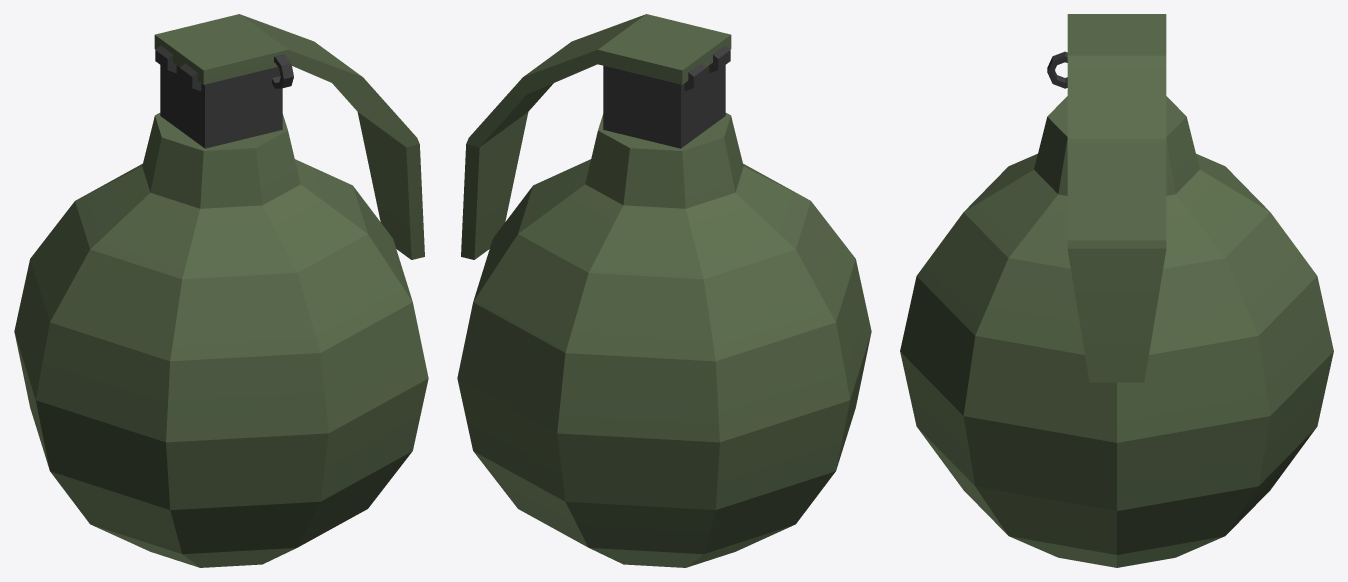
Rendered from Grenade_02_2.fbx.
The picture shows the model from 3 angles, left to right: view 1: azimuth 30°, elevation 25°; view 2: azimuth 150°, elevation 25°; view 3: azimuth 270°, elevation 25°; orthographic projection.
Visible parts, largest first — view 1: Grenade_02_2; view 2: Grenade_02_2; view 3: Grenade_02_2.
Part boxes in pixels (<box>): Grenade_02_2: <box>14,14,428,567</box>; Grenade_02_2: <box>457,14,871,567</box>; Grenade_02_2: <box>900,14,1333,567</box>.
Size of the model in its own units: 0.0856 by 0.1104 by 0.0847.
